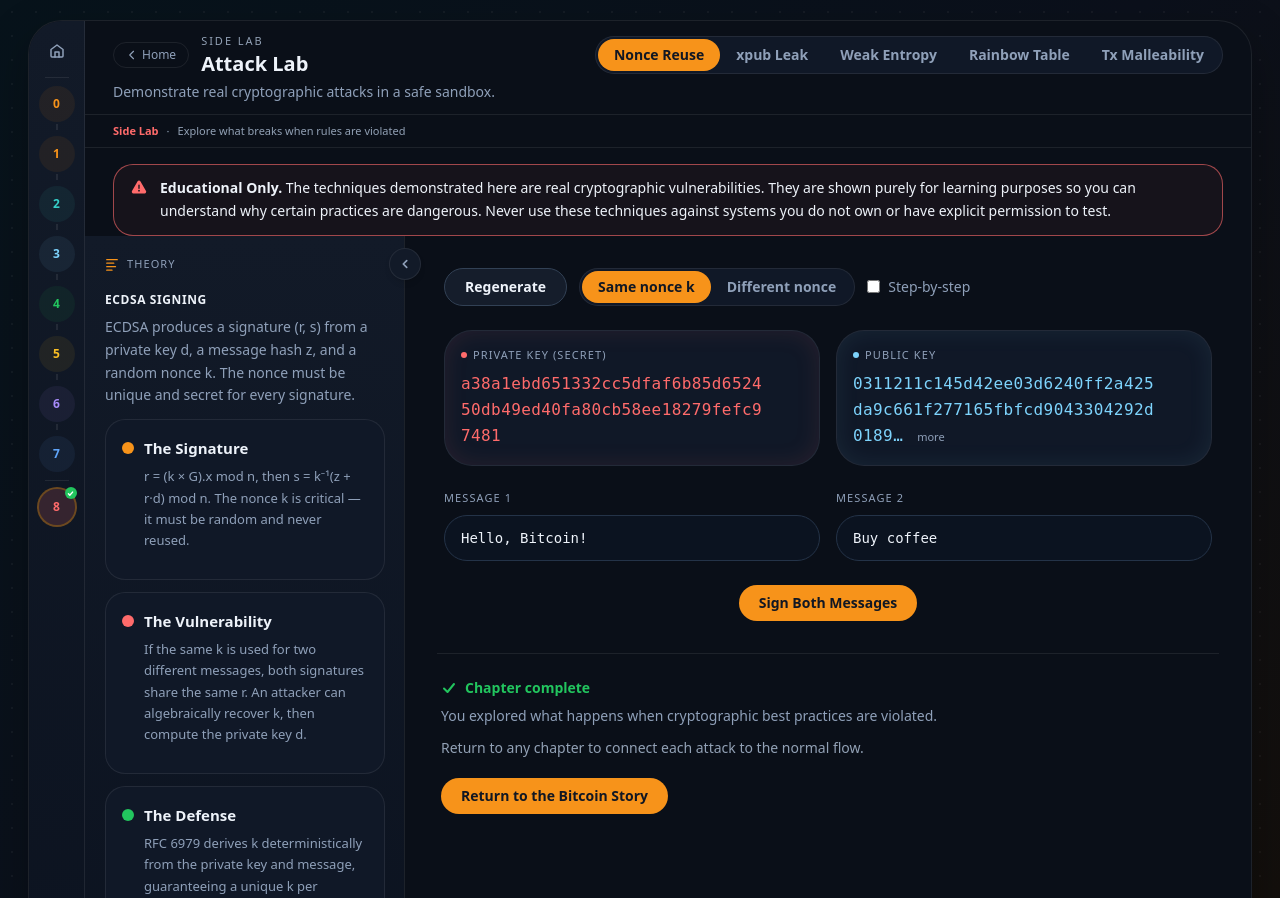
AttackLab › switches to Rainbow Table tab and shows Crack button
Step 1. Click the tab "Rainbow Table" → x=1019, y=55, box [953,39,1086,71]
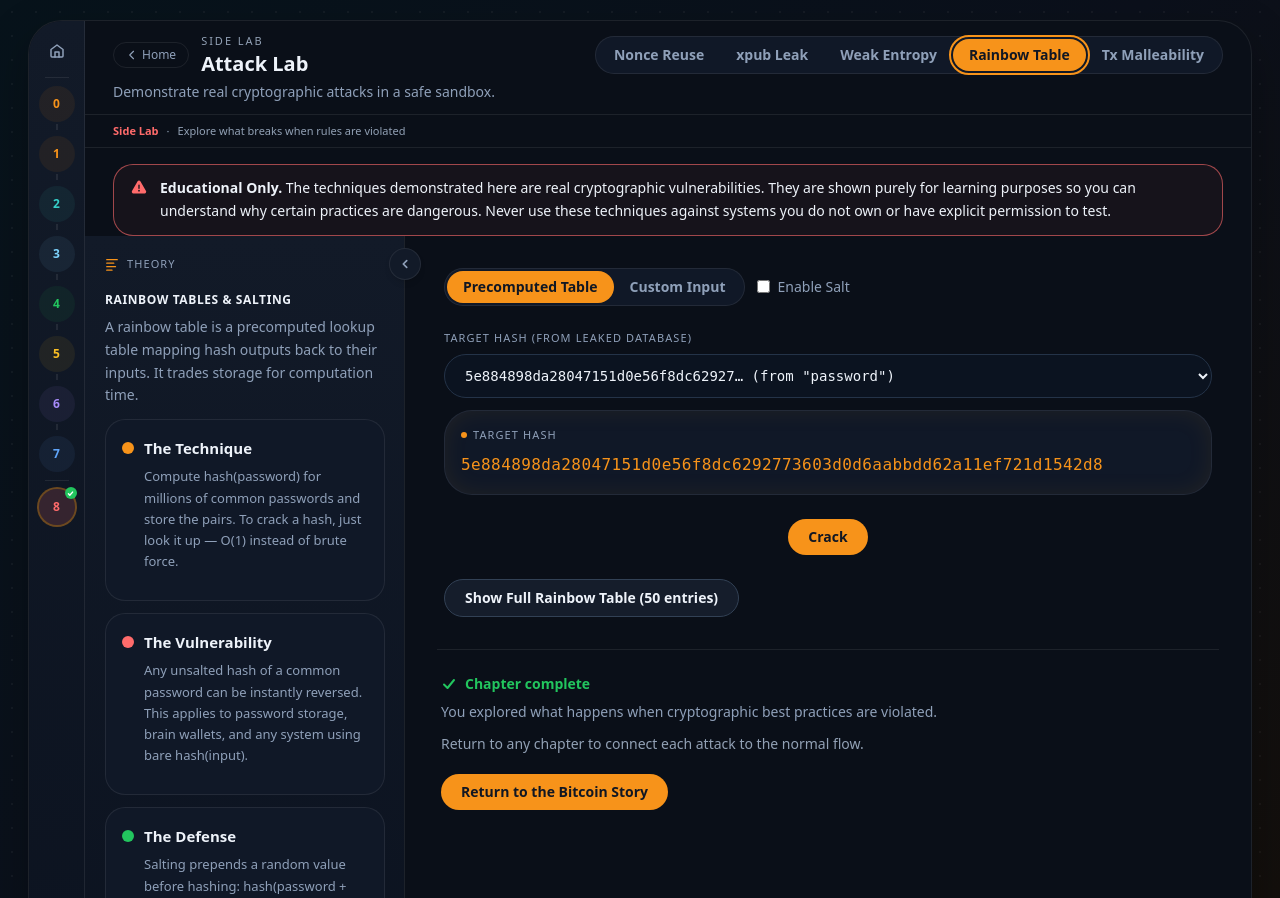
Check: the button "Crack" is shown, box [788,518,868,554]
